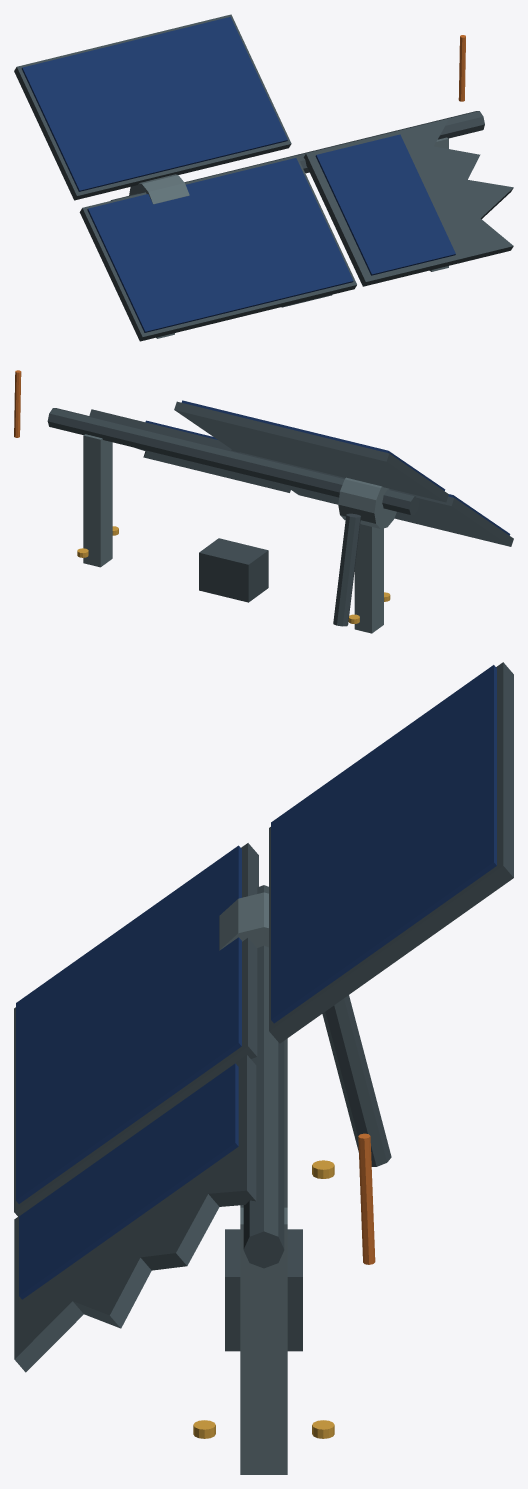
File: solar_panel_rack_d2.glb
The picture shows the model from 3 angles, top to bottom: view 1: azimuth 30°, elevation 25°; view 2: azimuth 150°, elevation 25°; view 3: azimuth 270°, elevation 25°; orthographic projection. The views are drawn at different scales.
Parts seen in each view (by area): view 1: SOLAR_GAME_MESH; view 2: SOLAR_GAME_MESH; view 3: SOLAR_GAME_MESH.
Part boxes in pixels (box(x1,y1,x2,y2)): SOLAR_GAME_MESH: box(14, 14, 513, 341); SOLAR_GAME_MESH: box(14, 370, 513, 633); SOLAR_GAME_MESH: box(14, 662, 513, 1474).
Bounding box in the file's own units: 4.52 × 2.52 × 2.44.
